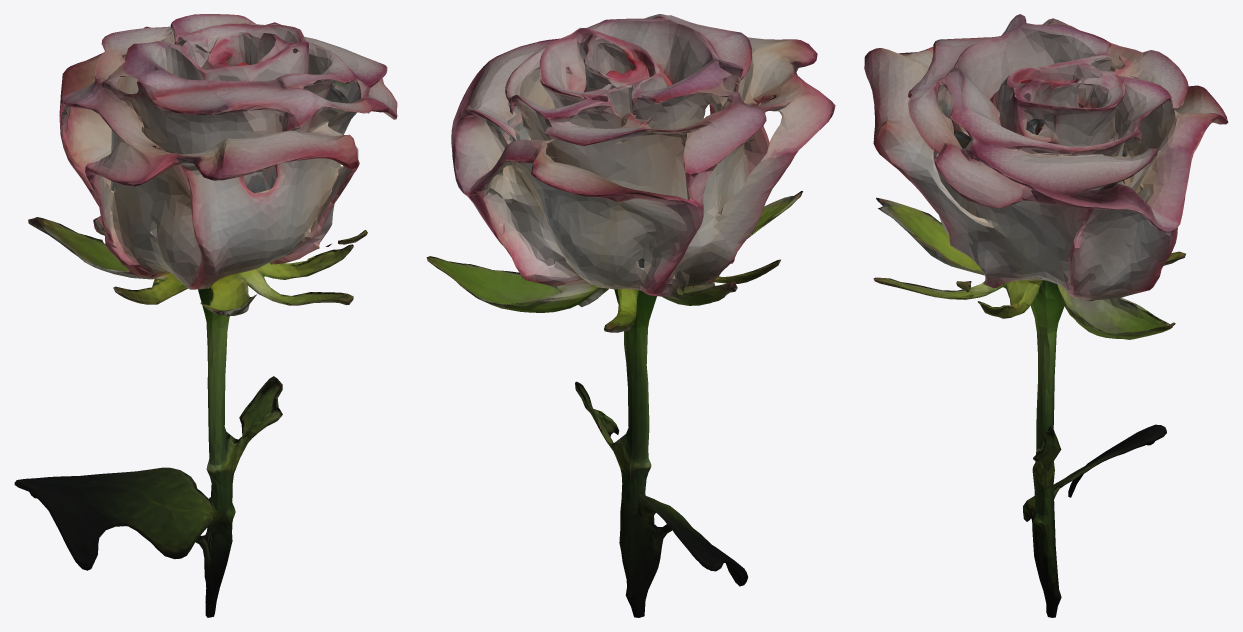
3 views of the same model, side by side, from view 1: azimuth 30°, elevation 25°; view 2: azimuth 150°, elevation 25°; view 3: azimuth 270°, elevation 25° (orthographic). The views are drawn at different scales.
Parts seen in each view (by area): view 1: world; view 2: world; view 3: world.
Part boxes in pixels (x1=…): world: x1=14, y1=14, x2=397, y2=617; world: x1=426, y1=14, x2=835, y2=617; world: x1=864, y1=14, x2=1228, y2=617.
Bounding box in the file's own units: 0.5617 × 0.9839 × 0.5759.
Materials: 1 (1 with a texture image).
